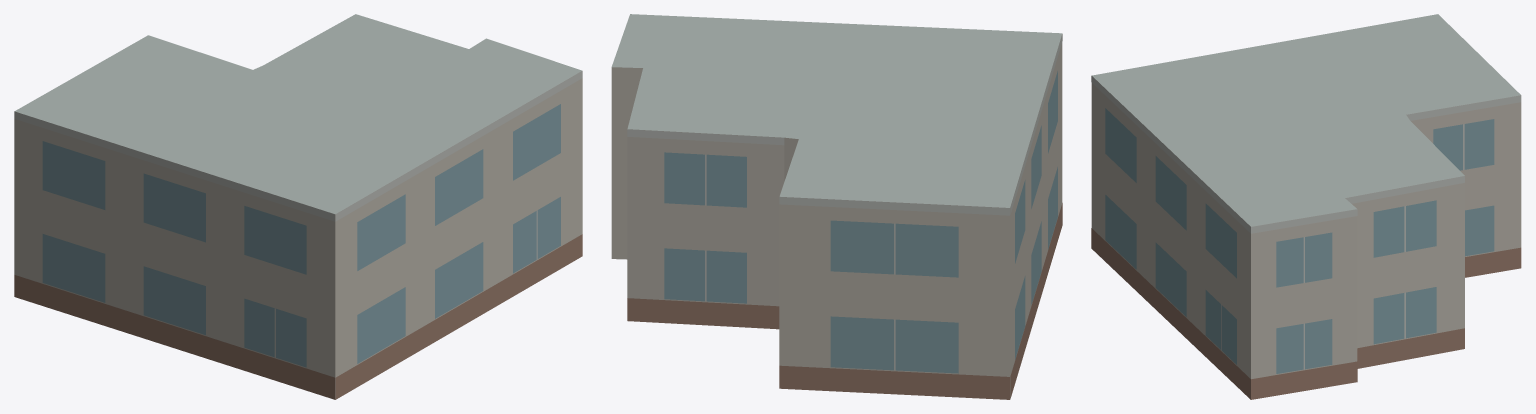
Rendered from survey-upis-32493463.glb.
3 renders of one model, left to right at view 1: azimuth 30°, elevation 25°; view 2: azimuth 150°, elevation 25°; view 3: azimuth 270°, elevation 25°, orthographic. The views are drawn at different scales.
Parts seen in each view (by area): view 1: survey-upis-32493463.tmp; view 2: survey-upis-32493463.tmp; view 3: survey-upis-32493463.tmp.
Boxes of the visible parts, x1,y1,x2,y2 form: survey-upis-32493463.tmp: (14, 14, 582, 399); survey-upis-32493463.tmp: (611, 14, 1062, 399); survey-upis-32493463.tmp: (1091, 14, 1521, 399).
Size of the model in its own units: 16.11 by 6.1 by 13.74.
